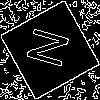N: (25, 25, 79, 73)
